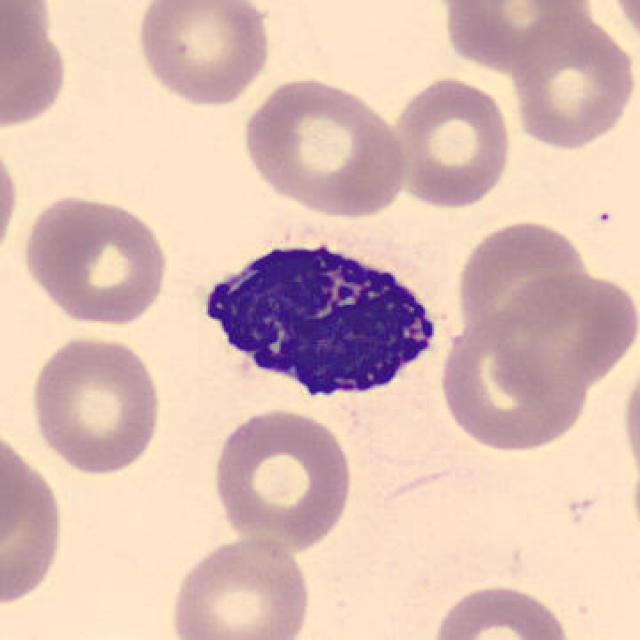Basophil: (187, 220, 453, 414)
RBC: (238, 72, 411, 219), (436, 317, 595, 457), (208, 404, 356, 554), (19, 190, 172, 330), (27, 331, 165, 478), (486, 266, 638, 397), (506, 10, 636, 152), (384, 74, 514, 212), (452, 217, 592, 340), (165, 532, 315, 640), (131, 0, 275, 109), (0, 422, 68, 616), (438, 0, 590, 74), (427, 580, 574, 640), (0, 0, 67, 130), (0, 420, 36, 571), (2, 0, 53, 71), (0, 130, 23, 268), (618, 354, 640, 488), (601, 0, 640, 51)
